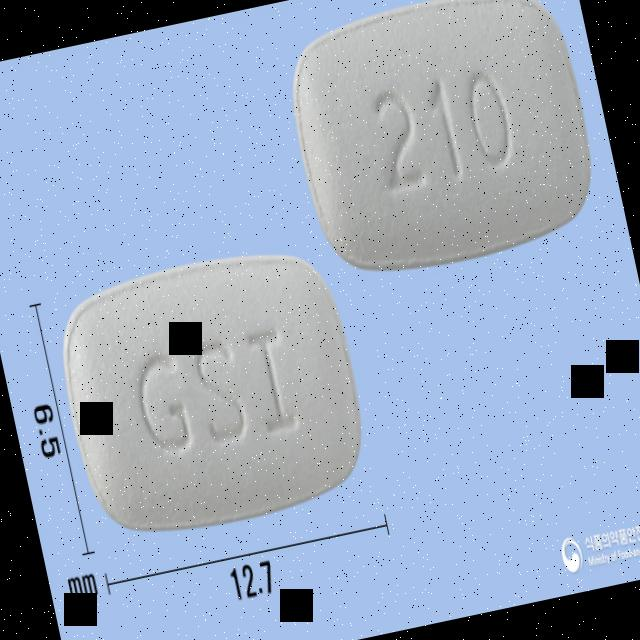Descovy -25mg: (43, 232, 380, 551), (275, 0, 609, 291)
